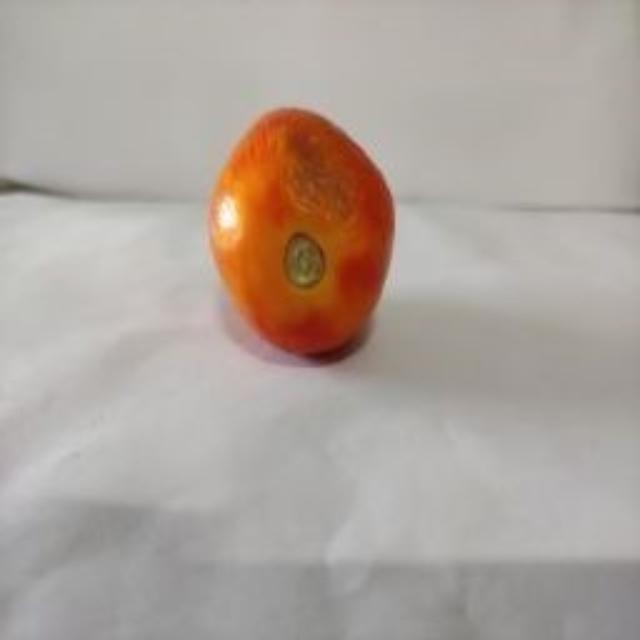defect: (204, 99, 400, 361)
